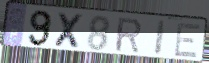8: (86, 14, 113, 53)
9: (27, 9, 55, 48)
E: (173, 22, 202, 60)
I: (153, 20, 168, 57)
R: (114, 17, 143, 54)
X: (52, 11, 86, 51)
